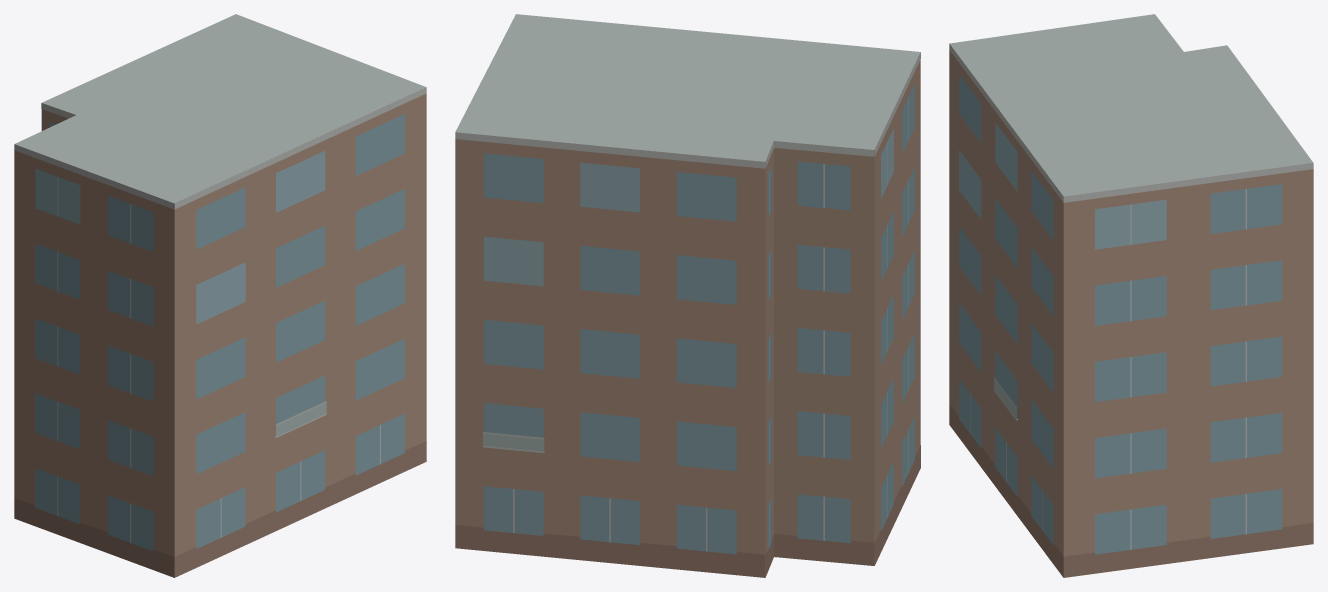
The model's file is survey-upis-32949315.glb.
The picture shows the model from 3 angles, left to right: view 1: azimuth 30°, elevation 25°; view 2: azimuth 150°, elevation 25°; view 3: azimuth 270°, elevation 25°; orthographic projection. The views are drawn at different scales.
Parts seen in each view (by area): view 1: survey-upis-32949315.tmp; view 2: survey-upis-32949315.tmp; view 3: survey-upis-32949315.tmp.
Boxes of the visible parts, <box> form: survey-upis-32949315.tmp: <box>14,14,426,577</box>; survey-upis-32949315.tmp: <box>455,14,920,577</box>; survey-upis-32949315.tmp: <box>949,14,1313,577</box>.
Bounding box in the file's own units: 15.37 × 14.95 × 12.95.
